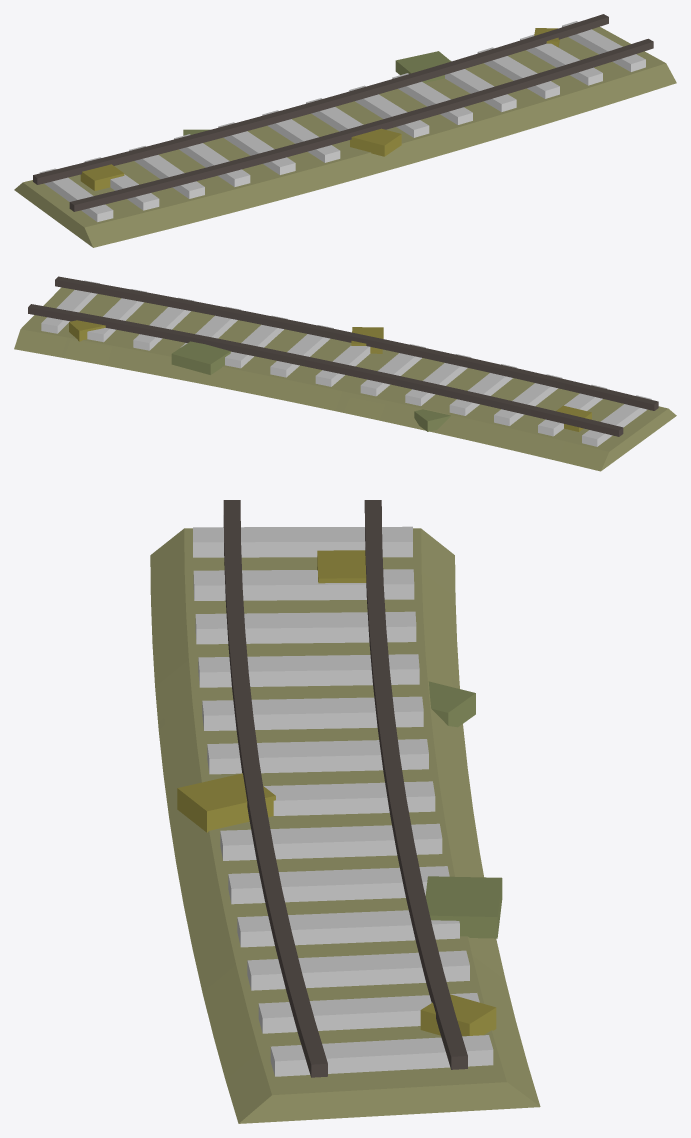
The model's file is SM_Via_CurvaR120_v2_Maleza_LOD1.fbx.
The picture shows the model from 3 angles, top to bottom: view 1: azimuth 30°, elevation 25°; view 2: azimuth 150°, elevation 25°; view 3: azimuth 270°, elevation 25°; orthographic projection. The views are drawn at different scales.
Parts seen in each view (by area): view 1: SM_via_trazado_v17_LOD1; view 2: SM_via_trazado_v17_LOD1; view 3: SM_via_trazado_v17_LOD1.
Part boxes in pixels (left/top/right/bottom): SM_via_trazado_v17_LOD1: left=14, top=14, right=676, bottom=247; SM_via_trazado_v17_LOD1: left=14, top=276, right=676, bottom=471; SM_via_trazado_v17_LOD1: left=150, top=500, right=540, bottom=1123.
Bounding box in the file's own units: 15.9 × 0.72 × 4.61.
